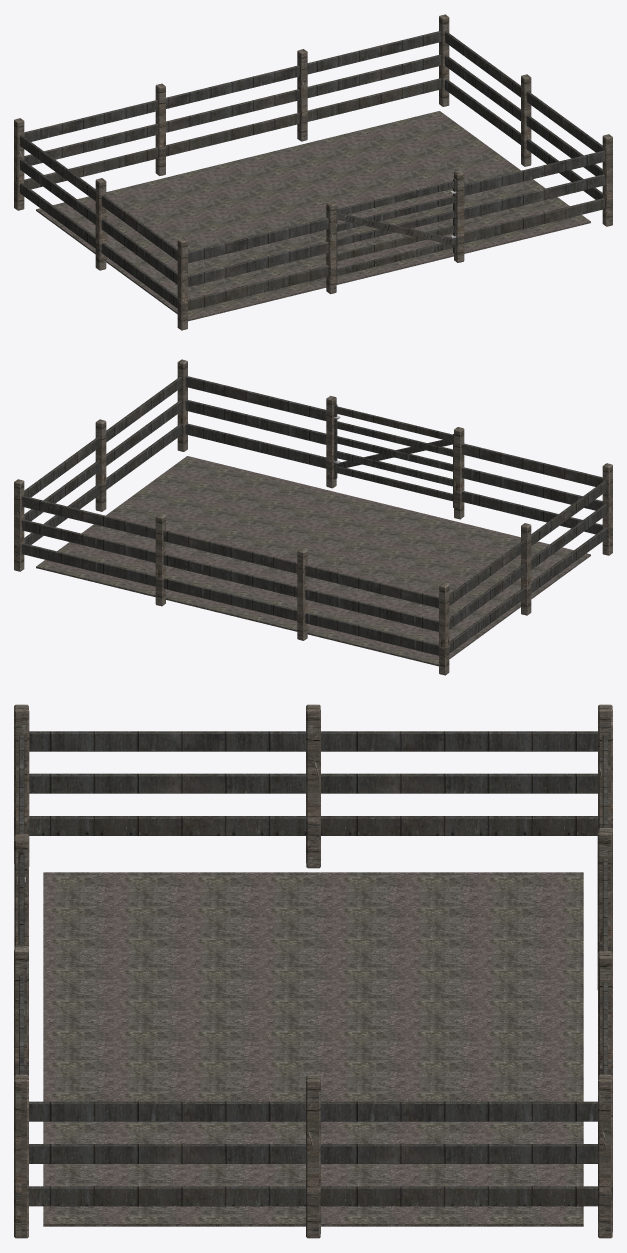
Rendered from night_pen_a.glb.
3 views of the same model, one above another, from view 1: azimuth 30°, elevation 25°; view 2: azimuth 150°, elevation 25°; view 3: azimuth 270°, elevation 25° (orthographic). The views are drawn at different scales.
Parts seen in each view (by area): view 1: night_pen_a_straw, night_pen_a_panel_back, night_pen_a_panel_right, night_pen_a_panel_left, night_pen_a_panel_front_r, night_pen_a_panel_front_l, night_pen_a_gate; view 2: night_pen_a_straw, night_pen_a_panel_back, night_pen_a_panel_right, night_pen_a_panel_left, night_pen_a_panel_front_l, night_pen_a_panel_front_r, night_pen_a_gate; view 3: night_pen_a_straw, night_pen_a_panel_left, night_pen_a_panel_right, night_pen_a_panel_back, night_pen_a_panel_front_l, night_pen_a_panel_front_r.
Boxes of the visible parts, left/top/right/bottom form: night_pen_a_straw: left=36, top=111, right=590, bottom=321; night_pen_a_panel_back: left=14, top=14, right=449, bottom=210; night_pen_a_panel_right: left=15, top=118, right=187, bottom=330; night_pen_a_panel_left: left=440, top=15, right=612, bottom=226; night_pen_a_panel_front_r: left=178, top=201, right=336, bottom=330; night_pen_a_panel_front_l: left=454, top=135, right=612, bottom=262; night_pen_a_gate: left=336, top=178, right=456, bottom=282; night_pen_a_straw: left=36, top=456, right=590, bottom=666; night_pen_a_panel_back: left=14, top=479, right=448, bottom=675; night_pen_a_panel_right: left=440, top=463, right=611, bottom=675; night_pen_a_panel_left: left=14, top=359, right=186, bottom=571; night_pen_a_panel_front_l: left=177, top=359, right=336, bottom=488; night_pen_a_panel_front_r: left=454, top=427, right=612, bottom=555; night_pen_a_gate: left=334, top=404, right=453, bottom=507; night_pen_a_straw: left=43, top=872, right=583, bottom=1226; night_pen_a_panel_left: left=14, top=1074, right=612, bottom=1238; night_pen_a_panel_right: left=14, top=704, right=612, bottom=868; night_pen_a_panel_back: left=597, top=704, right=612, bottom=1238; night_pen_a_panel_front_l: left=14, top=945, right=28, bottom=1238; night_pen_a_panel_front_r: left=14, top=704, right=28, bottom=946.
Size of what is drawn, in the model's own units: 6.1 by 1.2 by 4.1.
4 materials, 3 textured.
